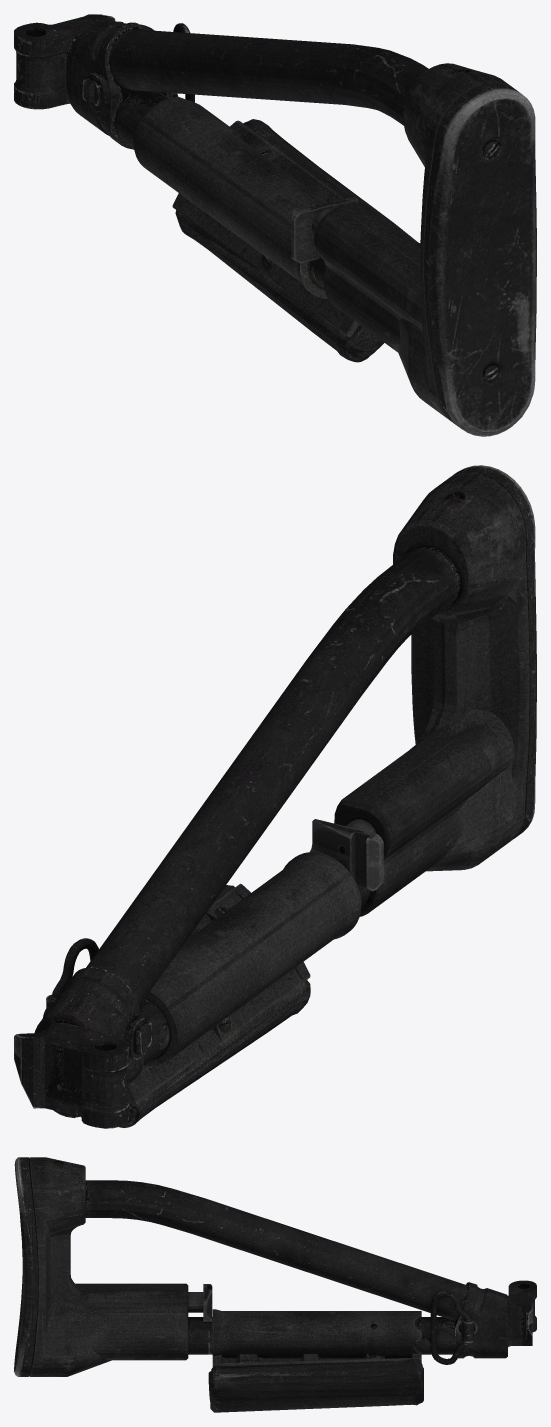
3 renders of one model, top to bottom at view 1: azimuth 30°, elevation 25°; view 2: azimuth 150°, elevation 25°; view 3: azimuth 270°, elevation 25°, orthographic. The views are drawn at different scales.
Visible parts, largest first — view 1: TW_5c471b5d2e221602b21d4e14_PZ_Import; view 2: TW_5c471b5d2e221602b21d4e14_PZ_Import; view 3: TW_5c471b5d2e221602b21d4e14_PZ_Import.
Boxes of the visible parts, bbox=[...] form: TW_5c471b5d2e221602b21d4e14_PZ_Import: bbox=[14, 14, 536, 436]; TW_5c471b5d2e221602b21d4e14_PZ_Import: bbox=[14, 465, 536, 1128]; TW_5c471b5d2e221602b21d4e14_PZ_Import: bbox=[14, 1157, 536, 1412].
Size of the model in its own units: 0.0371 by 0.1615 by 0.0832.
Materials: 1 (1 with a texture image).
